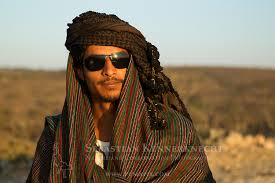middle_eastern_male: (82, 42, 130, 102)
